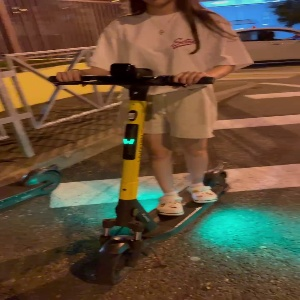human on a scooter: (47, 1, 256, 287)
